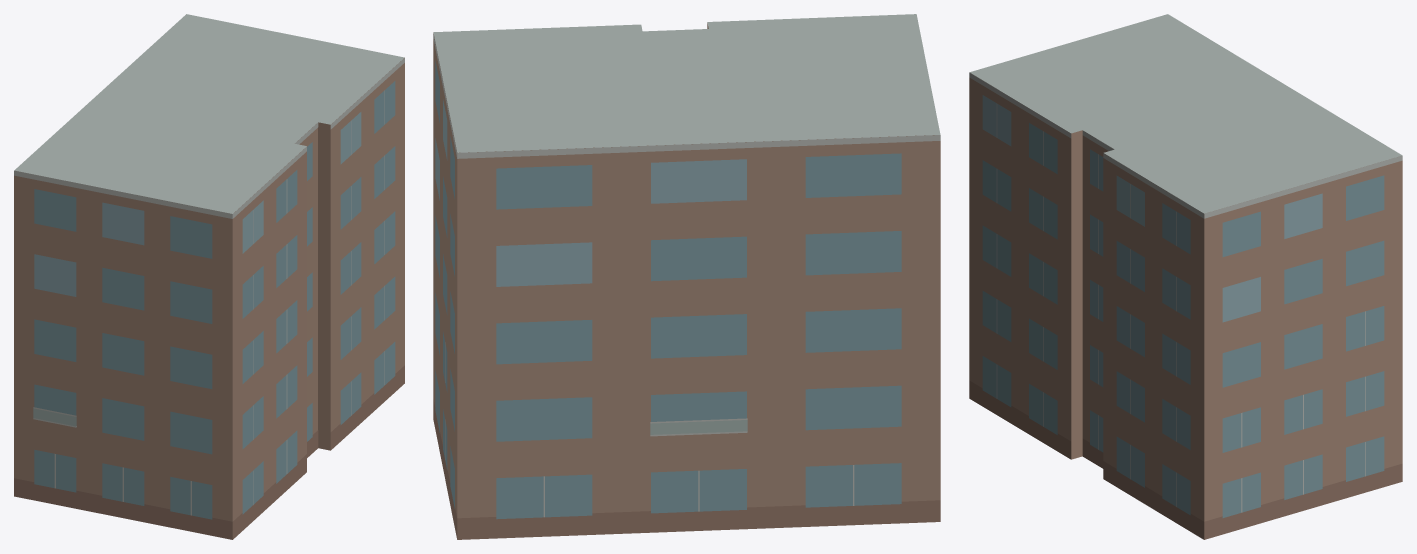
The model's file is survey-upis-32658666.glb.
3 views of the same model, side by side, from view 1: azimuth 30°, elevation 25°; view 2: azimuth 150°, elevation 25°; view 3: azimuth 270°, elevation 25° (orthographic). The views are drawn at different scales.
Parts seen in each view (by area): view 1: survey-upis-32658666.tmp; view 2: survey-upis-32658666.tmp; view 3: survey-upis-32658666.tmp.
Part boxes in pixels (box(x1,y1,x2,y2)): survey-upis-32658666.tmp: box(14, 14, 404, 539); survey-upis-32658666.tmp: box(433, 14, 940, 539); survey-upis-32658666.tmp: box(969, 14, 1402, 539).
Bounding box in the file's own units: 20.62 × 15.7 × 18.91.
